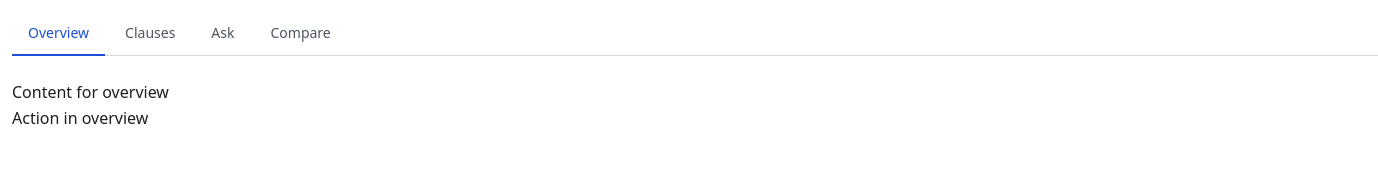
Scenario: Tabs › selects a tab on click and shows its panel
This screenshot has width=1378, height=172.
Click the tab "Compare" at (301, 34), box [254,12,347,56]
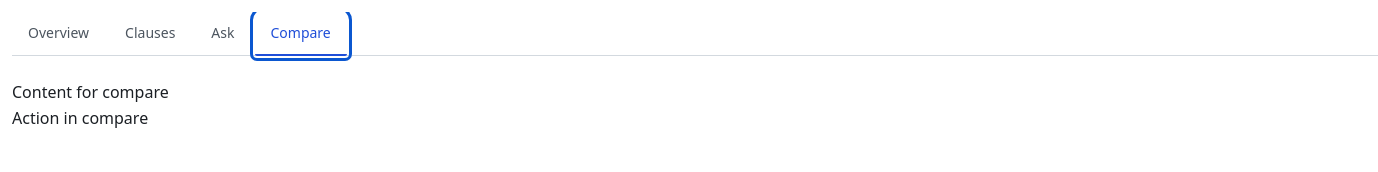
Now the panel "compare" shows "Content for compare", box [12,81,169,103]
